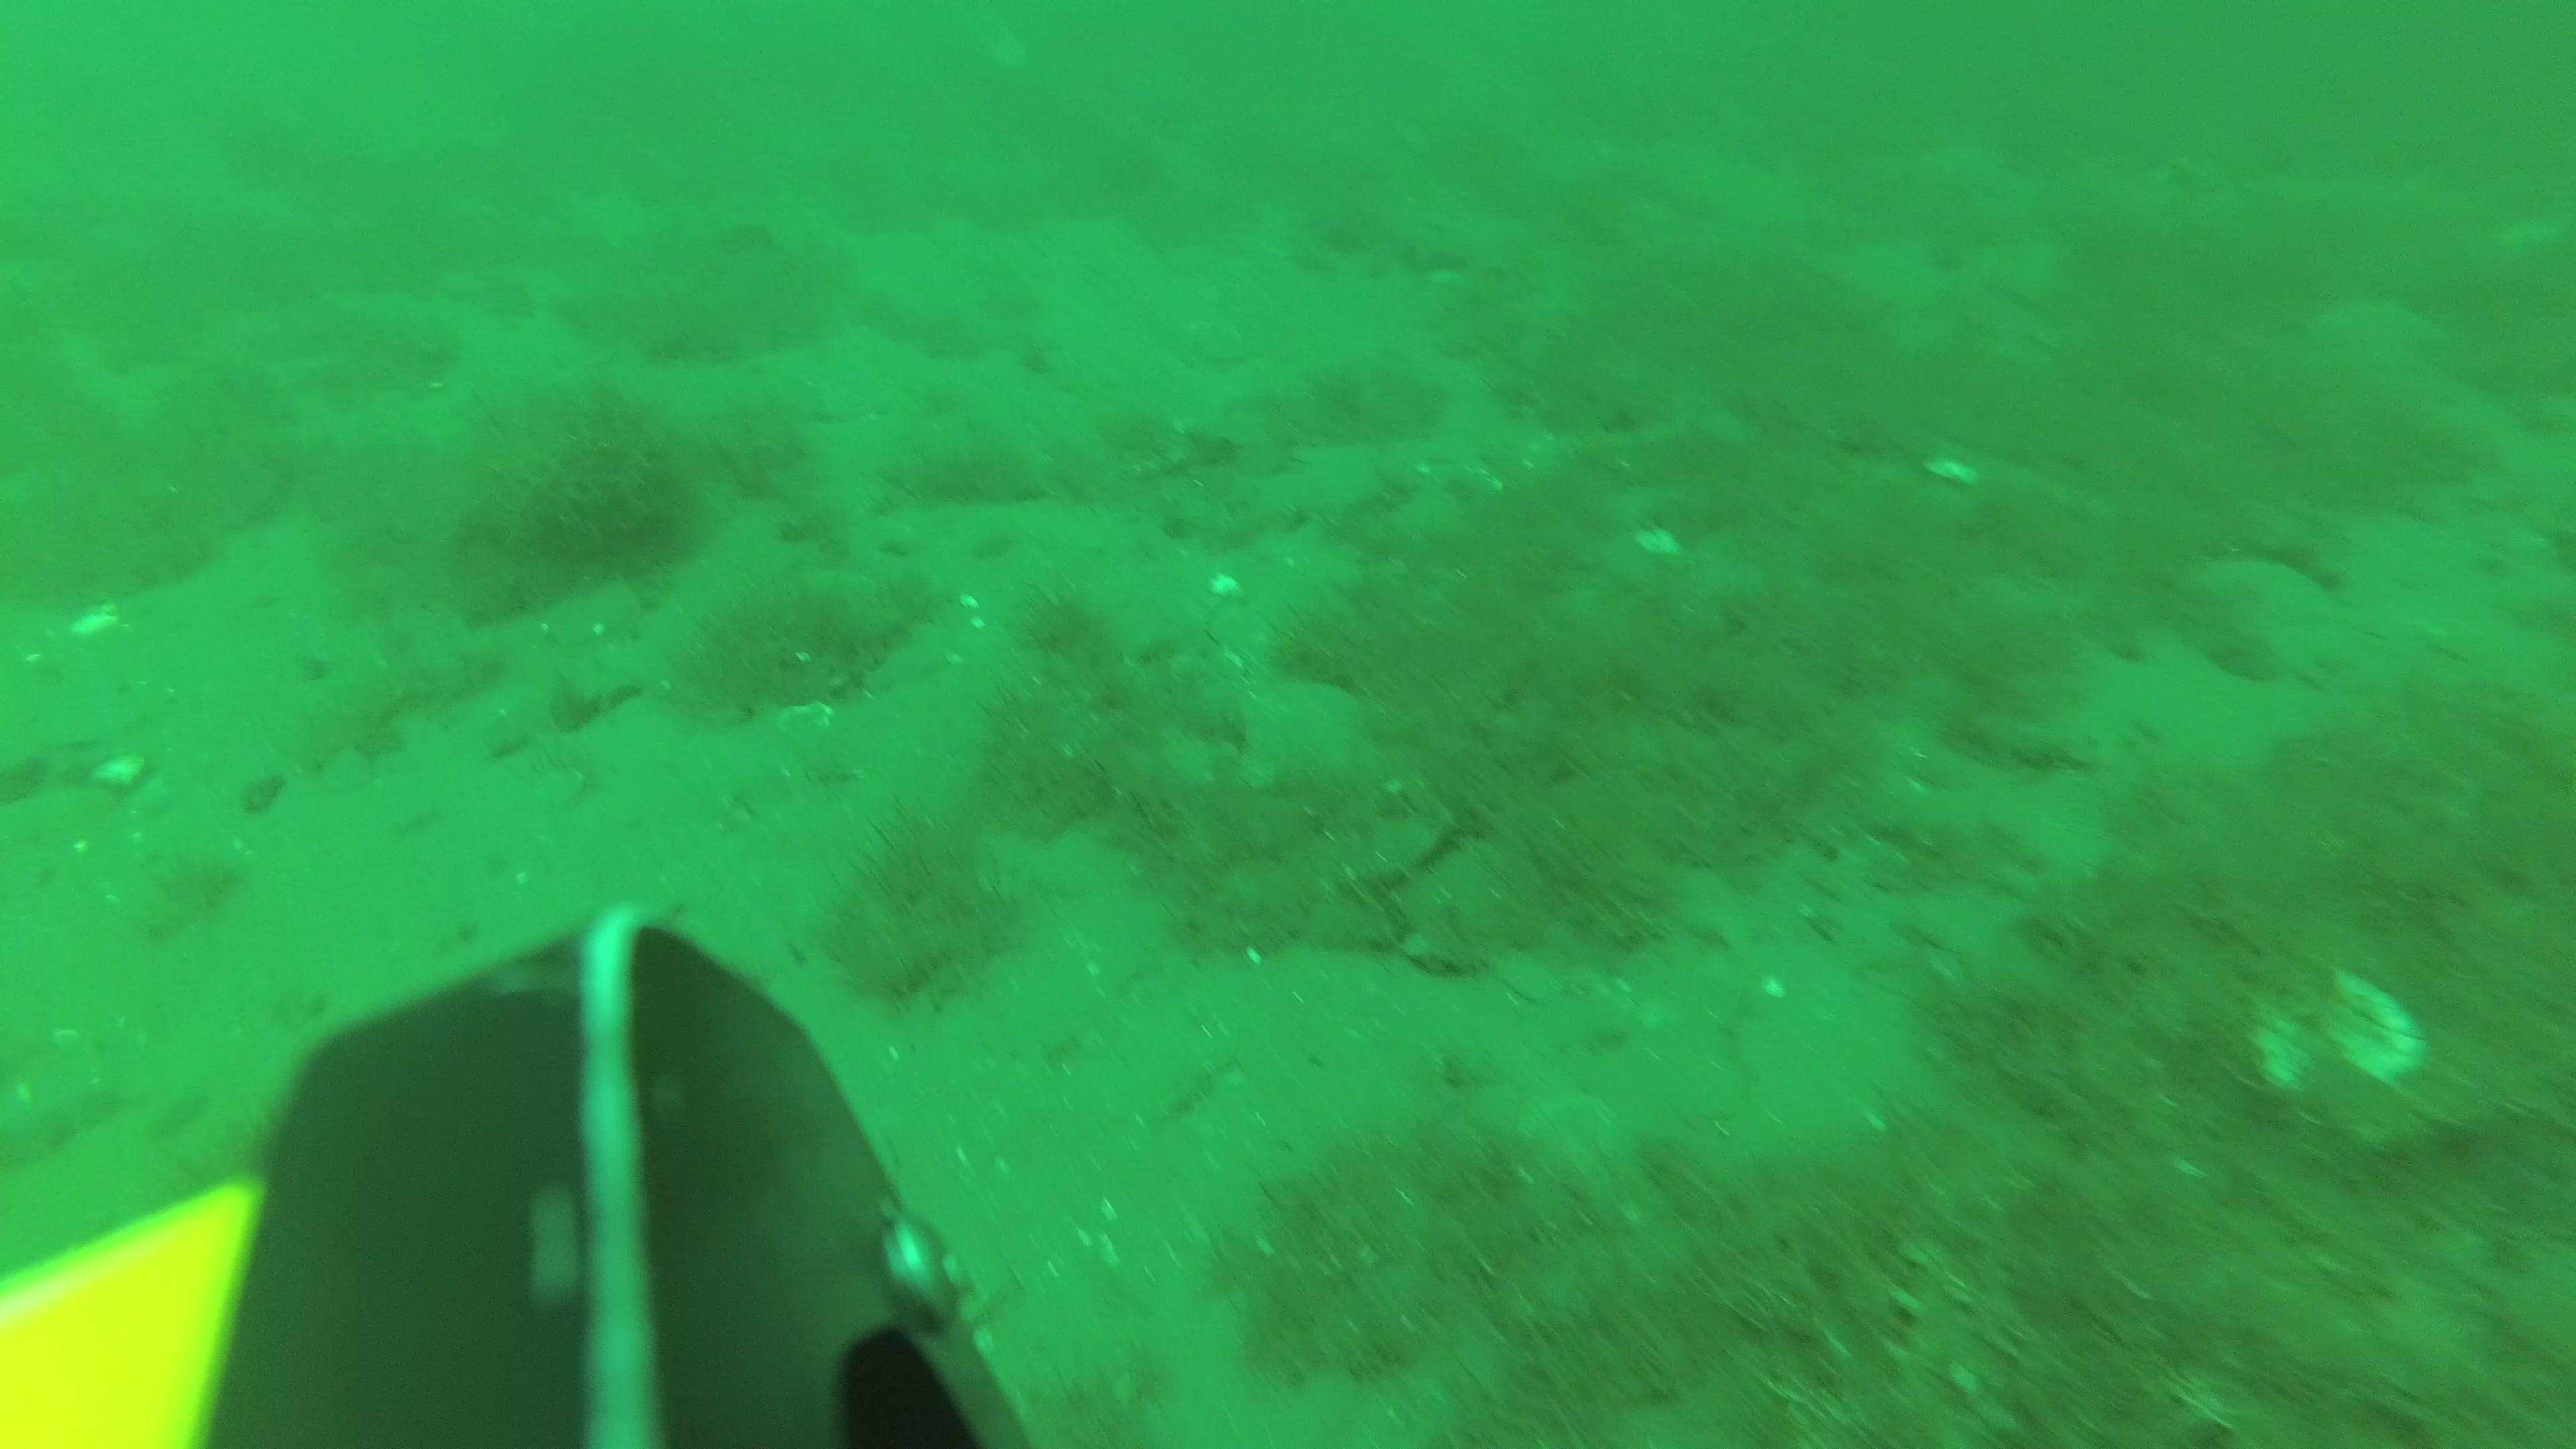scallop: (2254, 962, 2429, 1145), (2204, 557, 2328, 626), (545, 579, 644, 646), (777, 697, 840, 754)
starfish: (2312, 301, 2443, 361)
